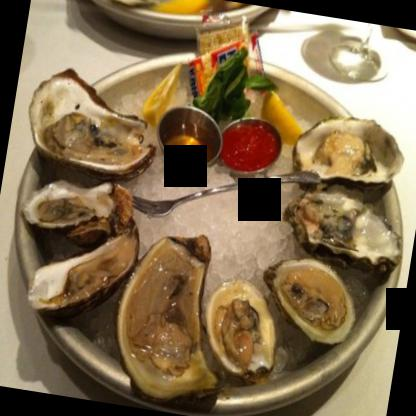oyster: (106, 220, 242, 410), (22, 61, 158, 183), (20, 218, 144, 326), (287, 184, 408, 274), (255, 248, 364, 345), (288, 110, 405, 192), (197, 278, 280, 376), (20, 172, 134, 242)
